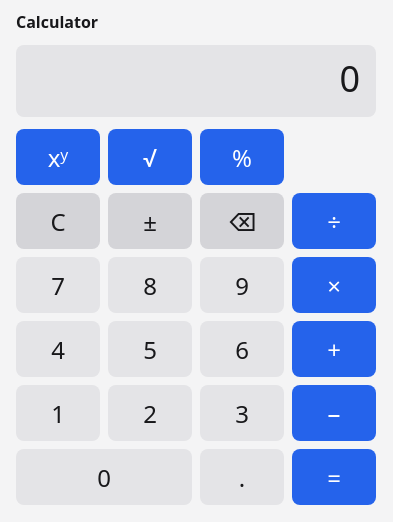
App › removes the last character with backspace
This screenshot has width=393, height=522.
Step 1. Click the button "4" → (58, 349), box top-left (16, 321), bottom-right (100, 377)
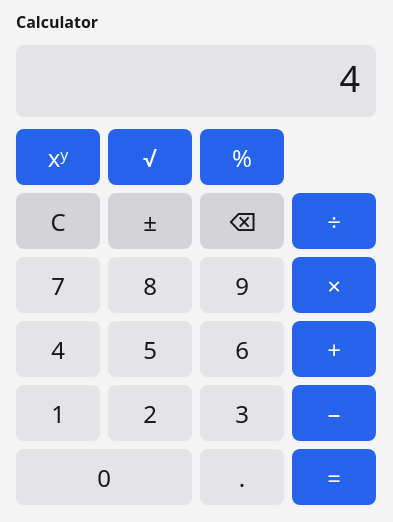
Step 2. Click the button "5" → (150, 349), box top-left (108, 321), bottom-right (192, 377)
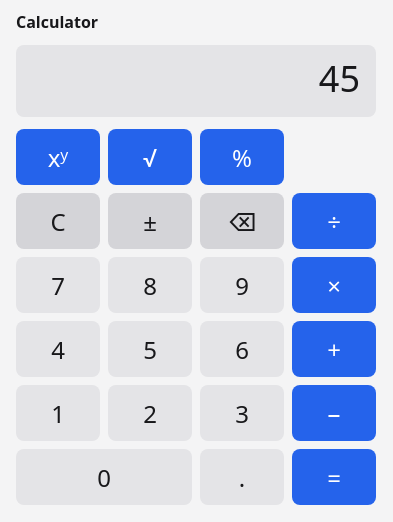
Step 3. Click the button named "Backspace" → (242, 221), box top-left (200, 193), bottom-right (284, 249)
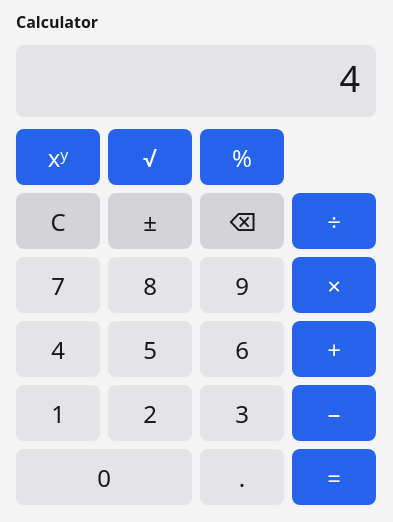
Expected: the message named "Display" reads "4", top-left (16, 45), bottom-right (376, 117)
